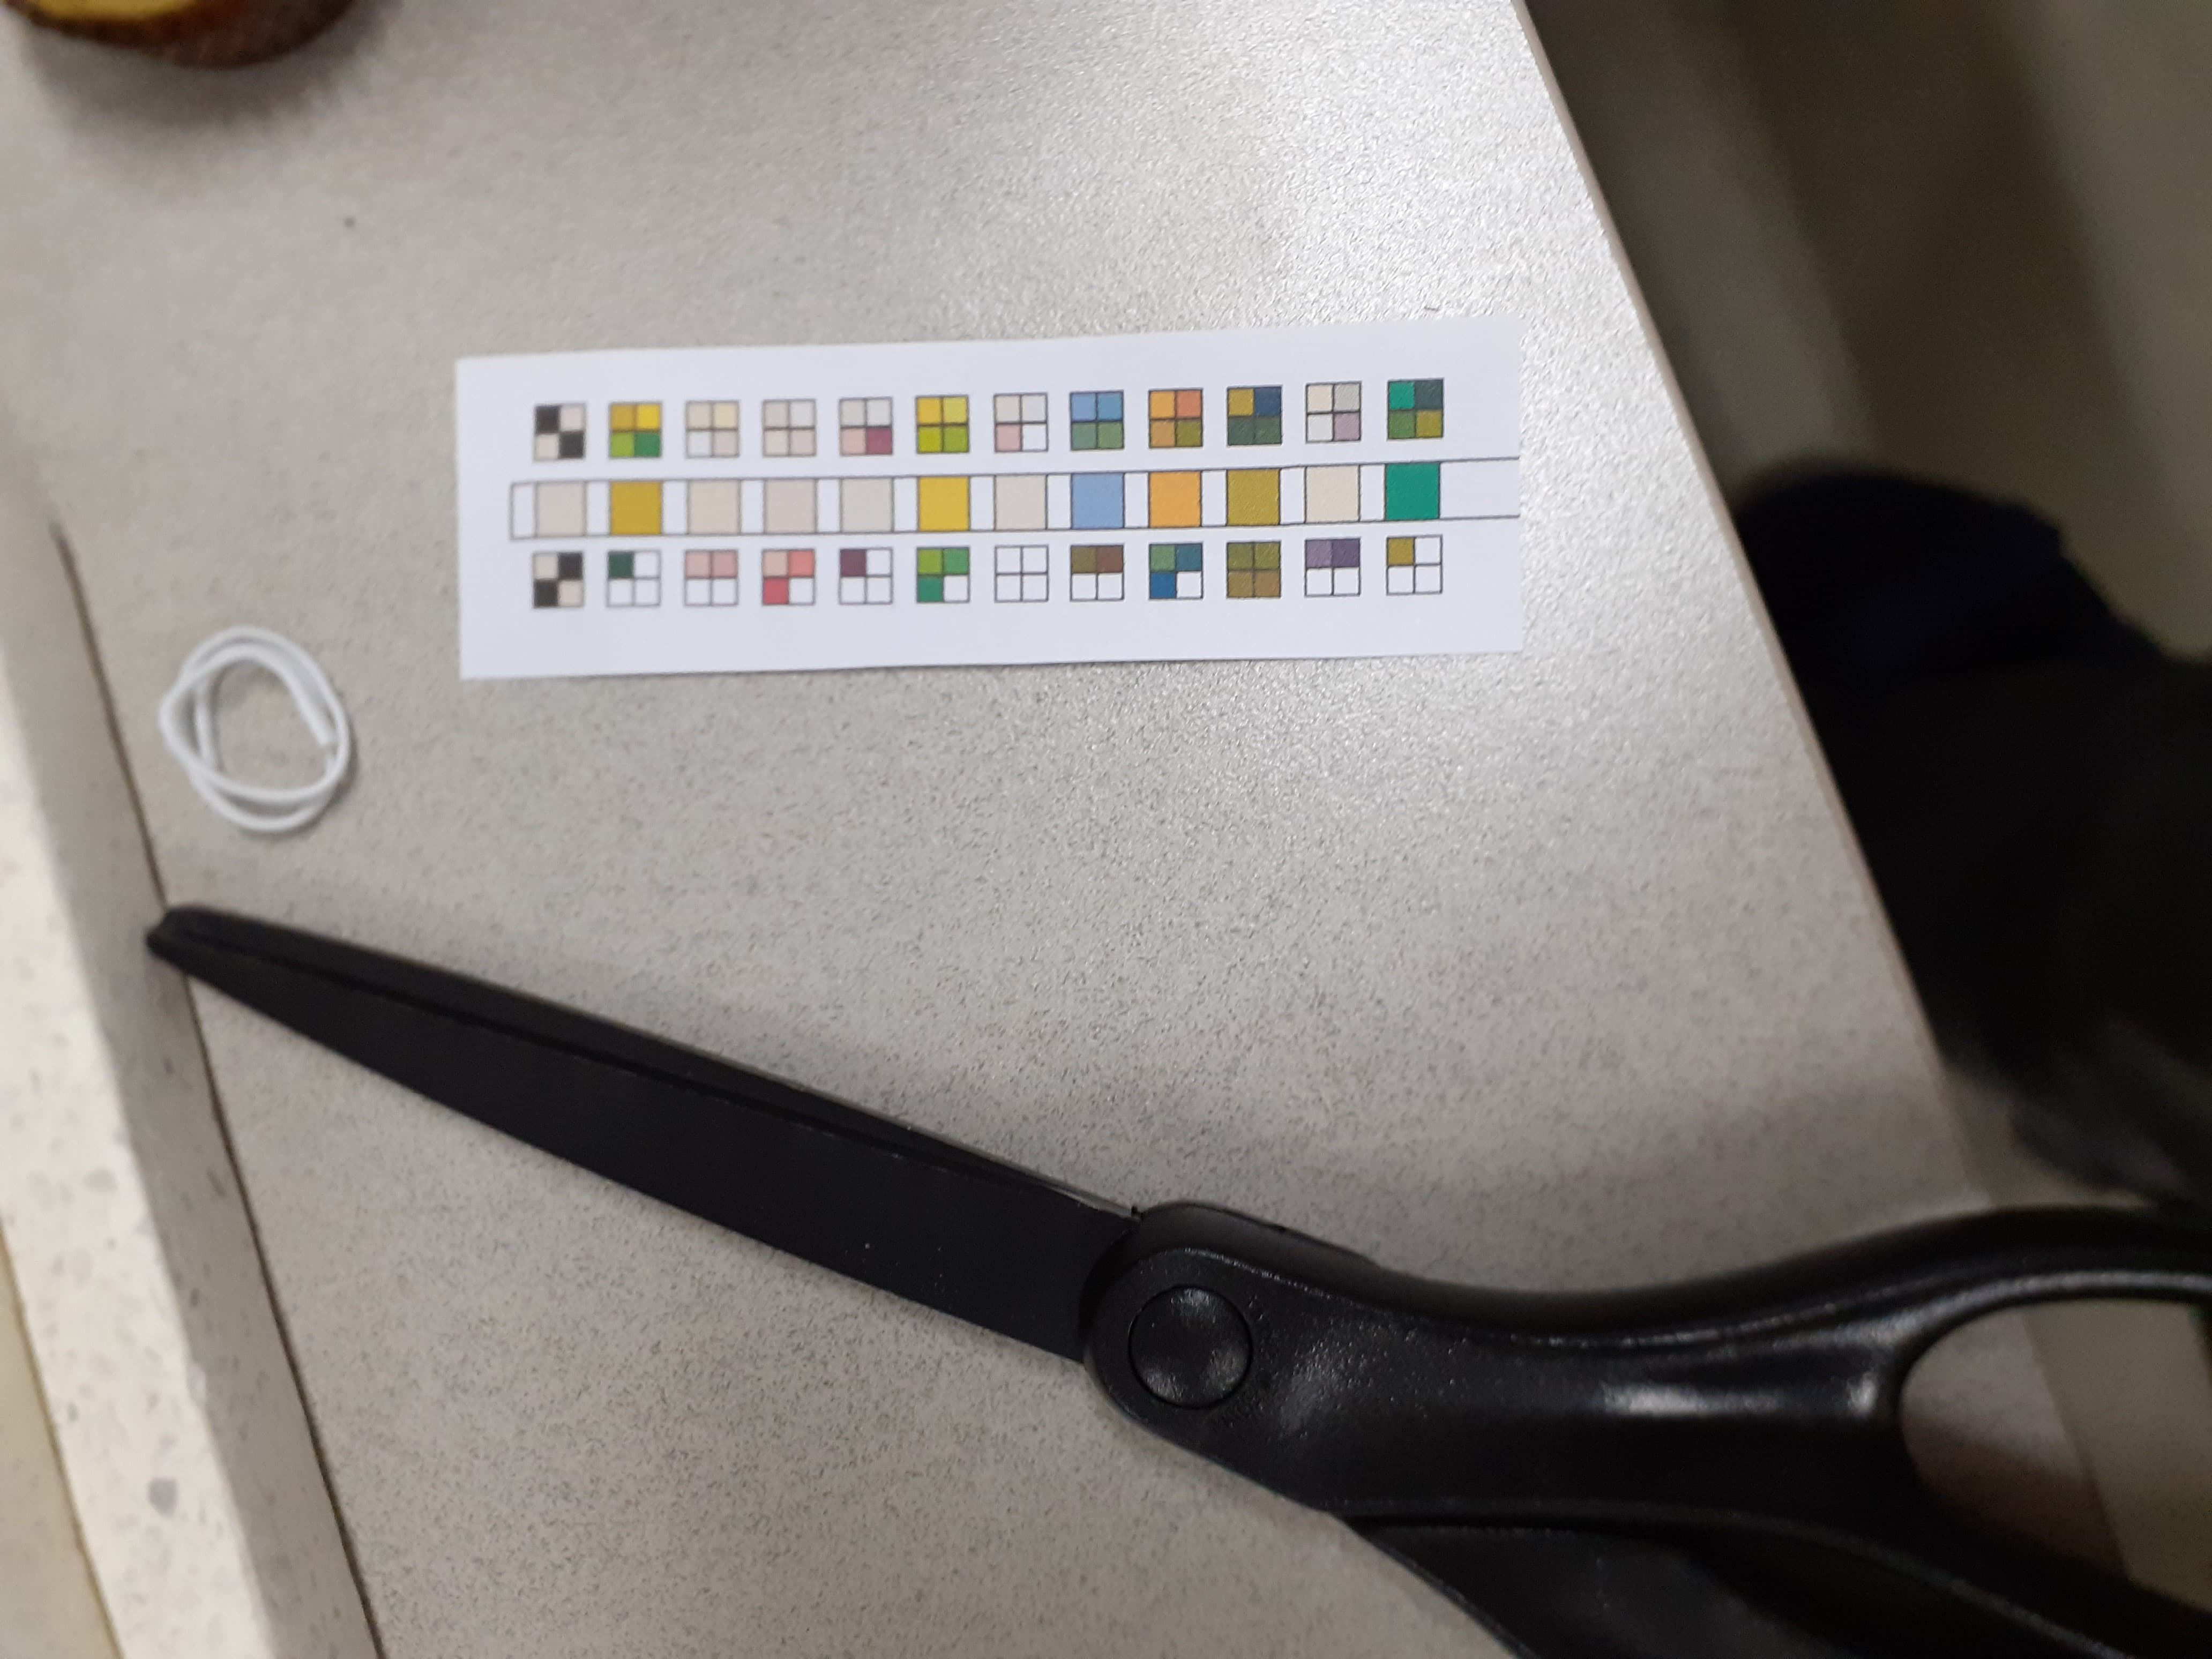tester: (448, 340, 1534, 678)
